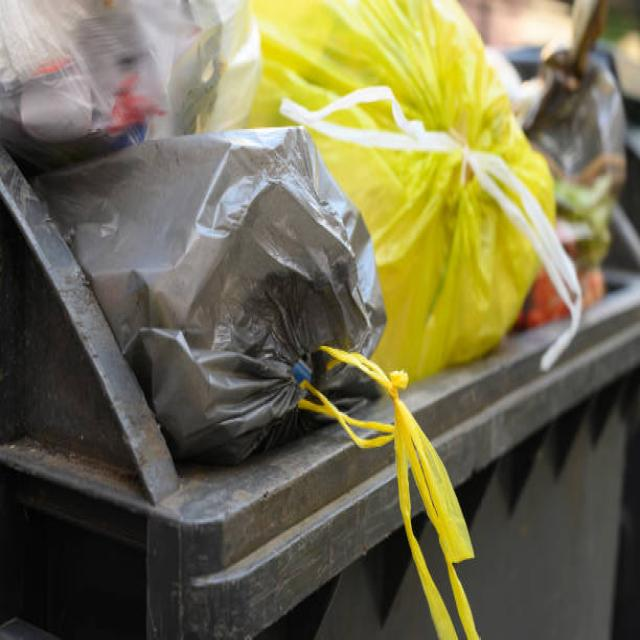trash: (9, 2, 611, 410)
